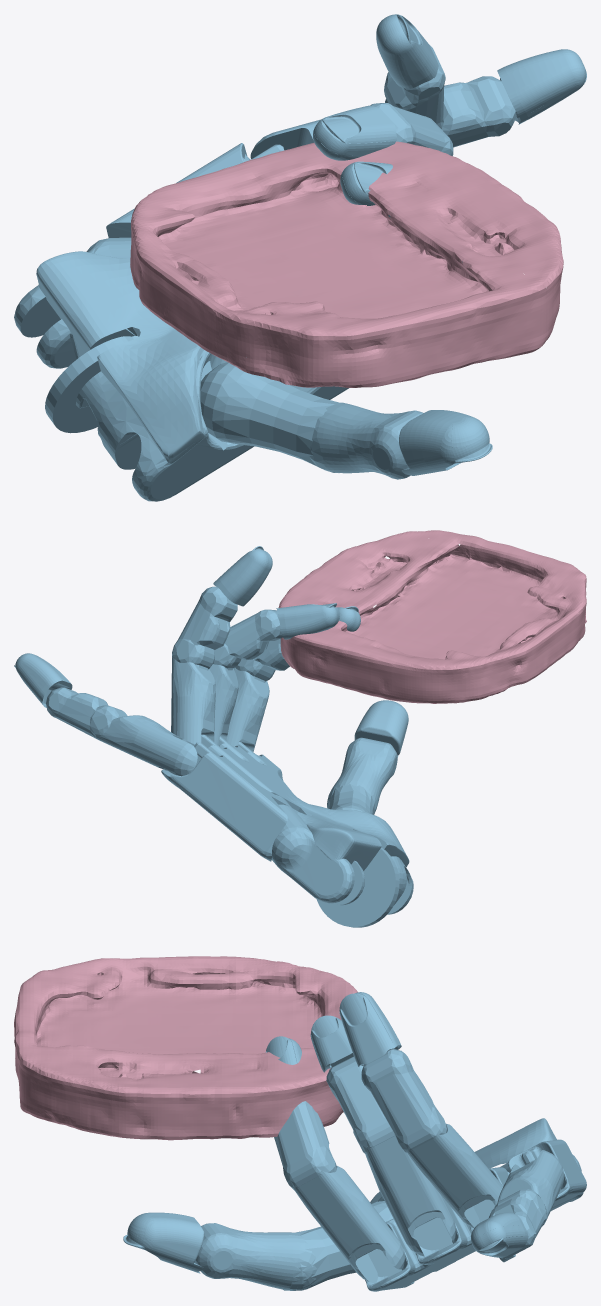
The picture shows the model from 3 angles, top to bottom: view 1: azimuth 30°, elevation 25°; view 2: azimuth 150°, elevation 25°; view 3: azimuth 270°, elevation 25°; orthographic projection. The views are drawn at different scales.
Parts seen in each view (by area): view 1: world, hand; view 2: hand, world; view 3: hand, world.
Part boxes in pixels (x1=…): world: x1=130, y1=141, x2=563, y2=387; hand: x1=14, y1=14, x2=586, y2=501; hand: x1=14, y1=546, x2=413, y2=927; world: x1=278, y1=530, x2=586, y2=703; hand: x1=123, y1=992, x2=586, y2=1291; world: x1=14, y1=956, x2=357, y2=1140.
Bounding box in the file's own units: 0.2123 × 0.1551 × 0.2136.
